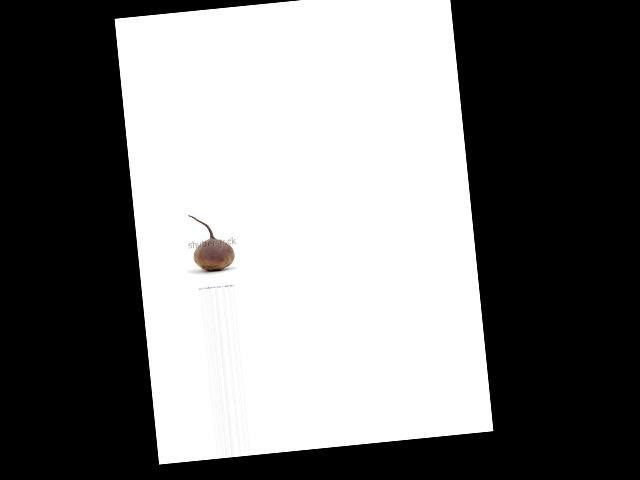beet: (188, 211, 236, 273)
